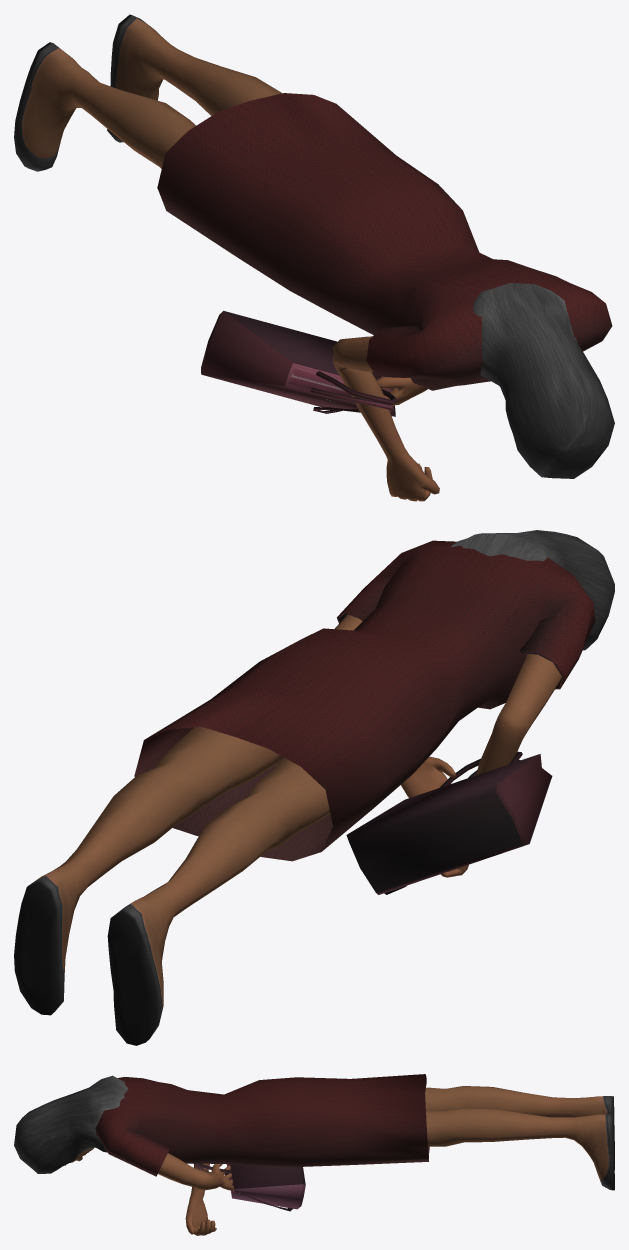
File: FemaleVisitor.obj
3 views of the same model, one above another, from view 1: azimuth 30°, elevation 25°; view 2: azimuth 150°, elevation 25°; view 3: azimuth 270°, elevation 25° (orthographic). The views are drawn at different scales.
Parts seen in each view (by area): view 1: FemaleVisitor; view 2: FemaleVisitor; view 3: FemaleVisitor.
Boxes of the visible parts, x1,y1,x2,y2 form: FemaleVisitor: (14,14,614,501); FemaleVisitor: (14,530,614,1045); FemaleVisitor: (14,1074,614,1235).
Size of the model in its own units: 0.5507 by 0.4801 by 1.64.
Materials: 2 (2 with a texture image).
